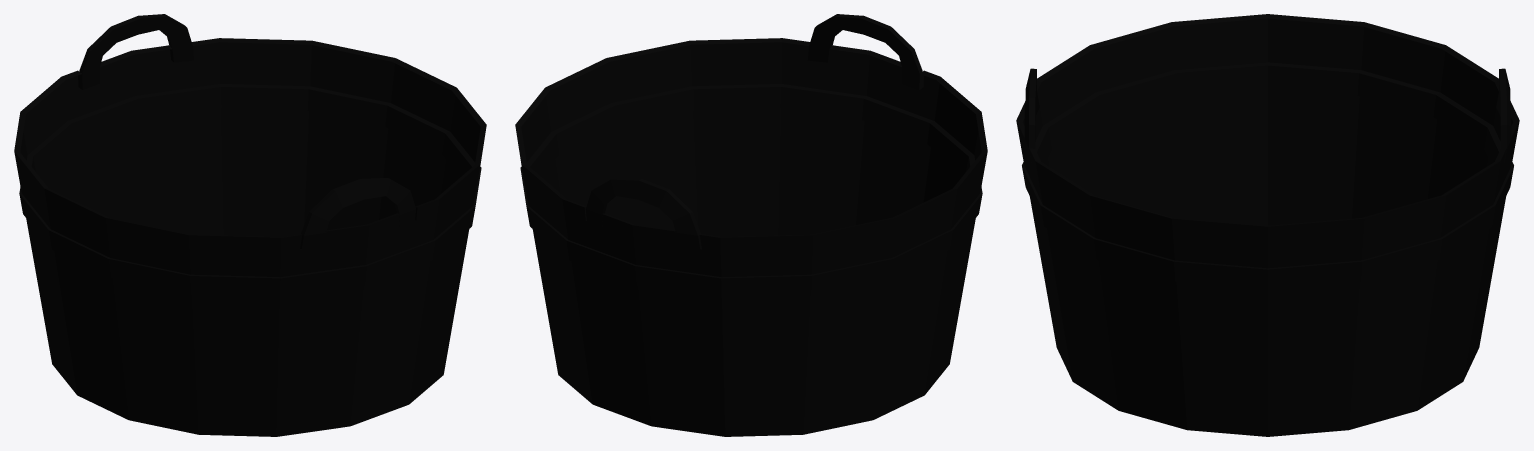
The model's file is MetalTubUv.fbx.
3 renders of one model, left to right at view 1: azimuth 30°, elevation 25°; view 2: azimuth 150°, elevation 25°; view 3: azimuth 270°, elevation 25°, orthographic. The views are drawn at different scales.
Parts seen in each view (by area): view 1: Circle; view 2: Circle; view 3: Circle.
Part boxes in pixels (x1,y1,x2,y2): Circle: [14, 14, 486, 436]; Circle: [515, 14, 987, 436]; Circle: [1016, 14, 1519, 436].
Bounding box in the file's own units: 244 × 244 × 144.
Materials: 1 (1 with a texture image).
